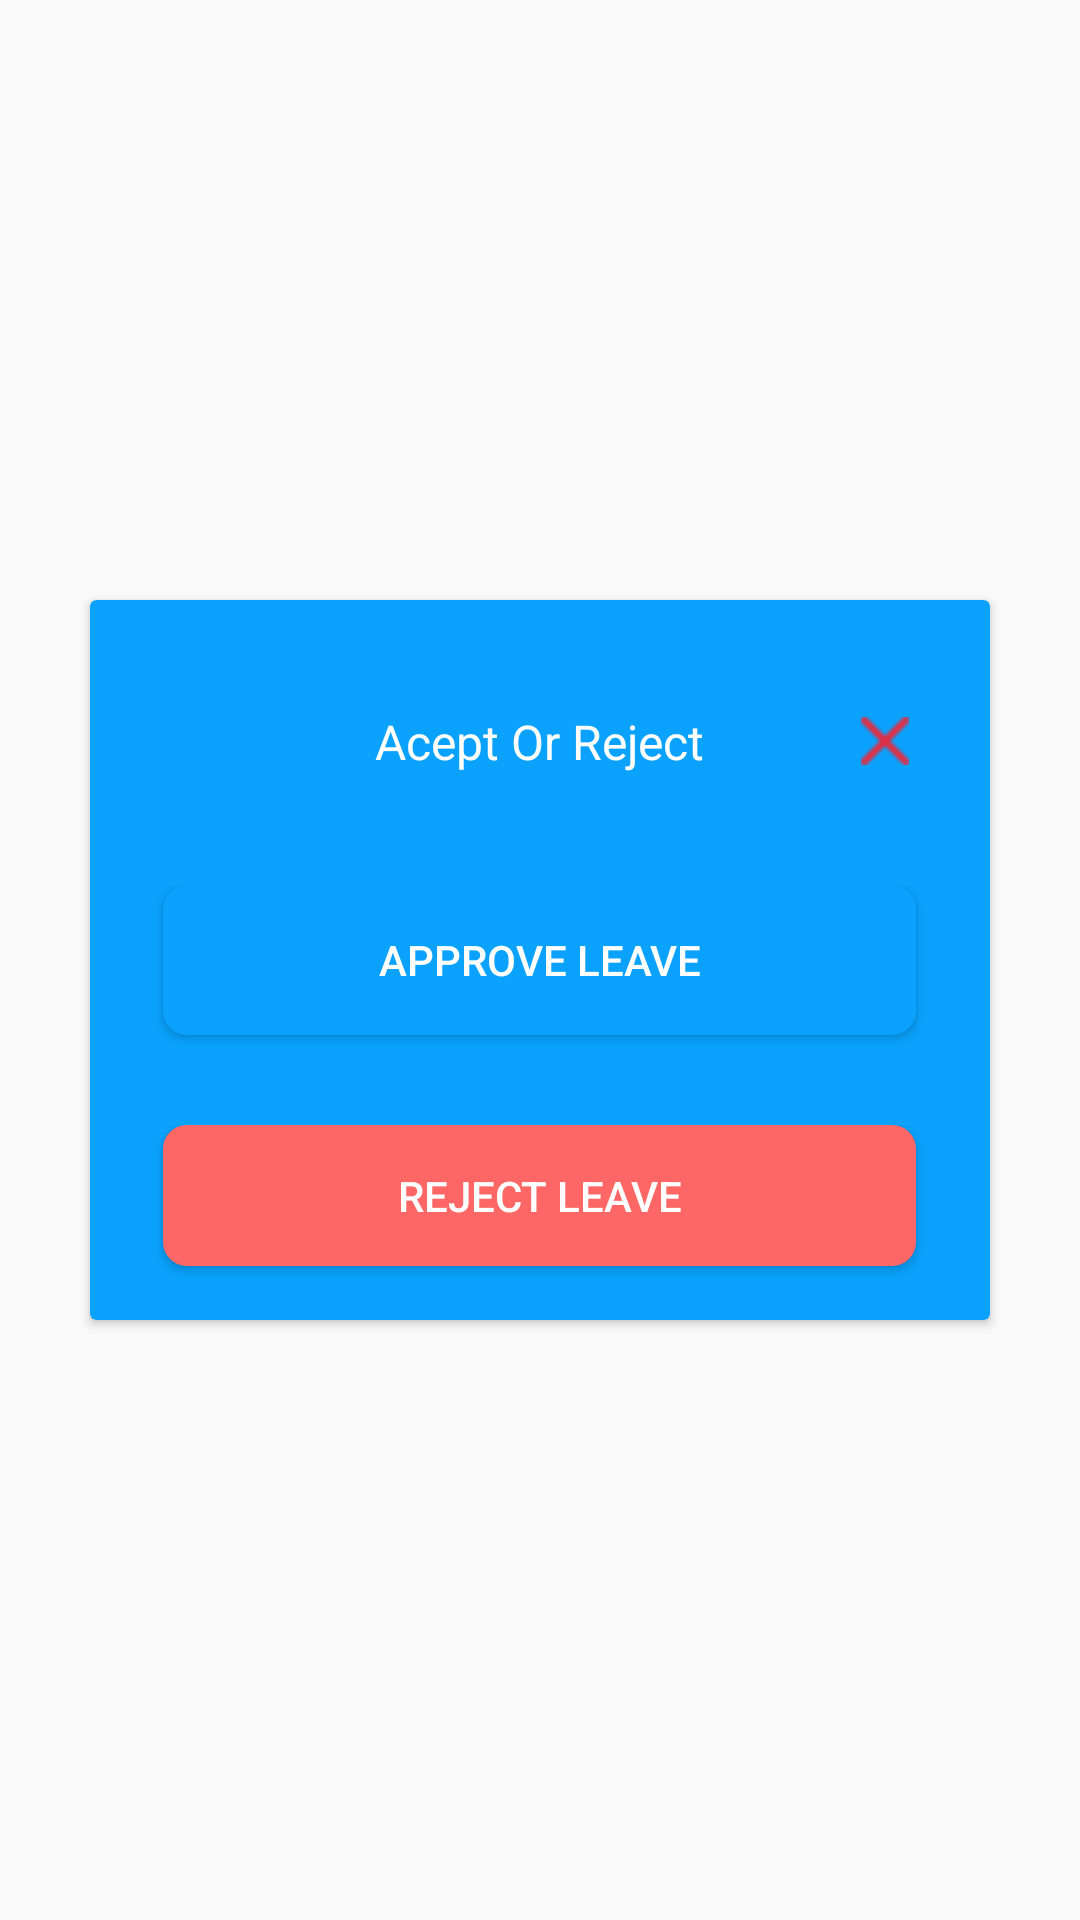

Icon click points for this 1080x1920 phone screenshot, format (x=x, y=y):
close: (x=885, y=741)
